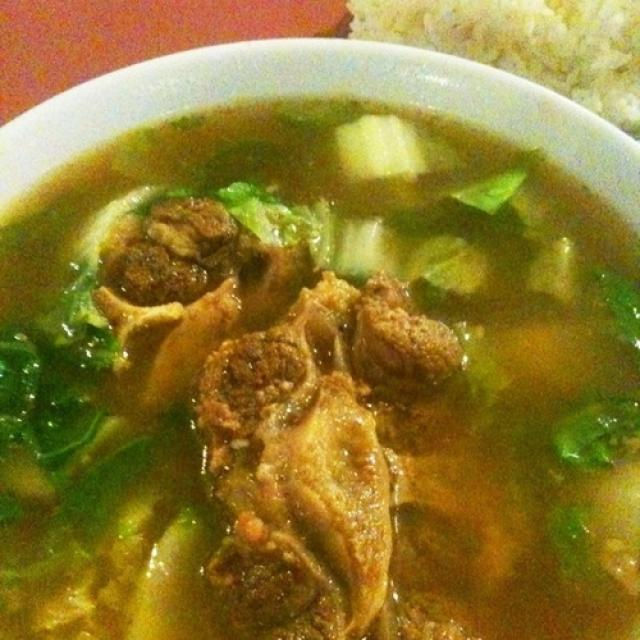汤锅炖物: (9, 15, 621, 616)
